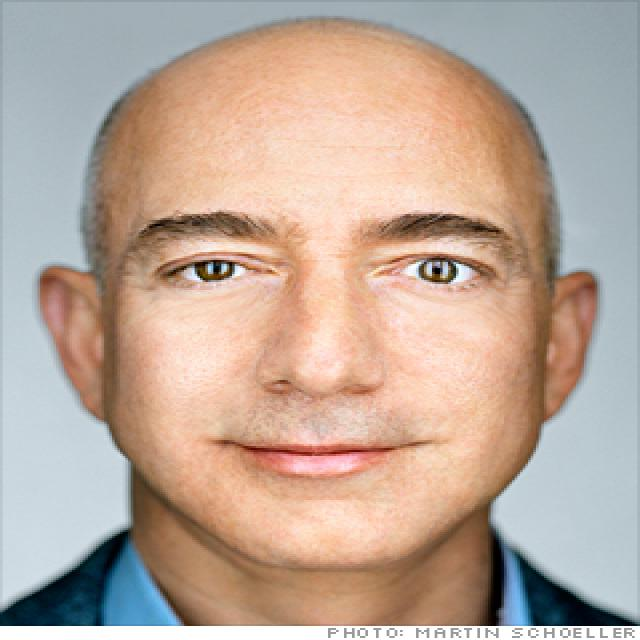no_helmet: (11, 3, 610, 262)
